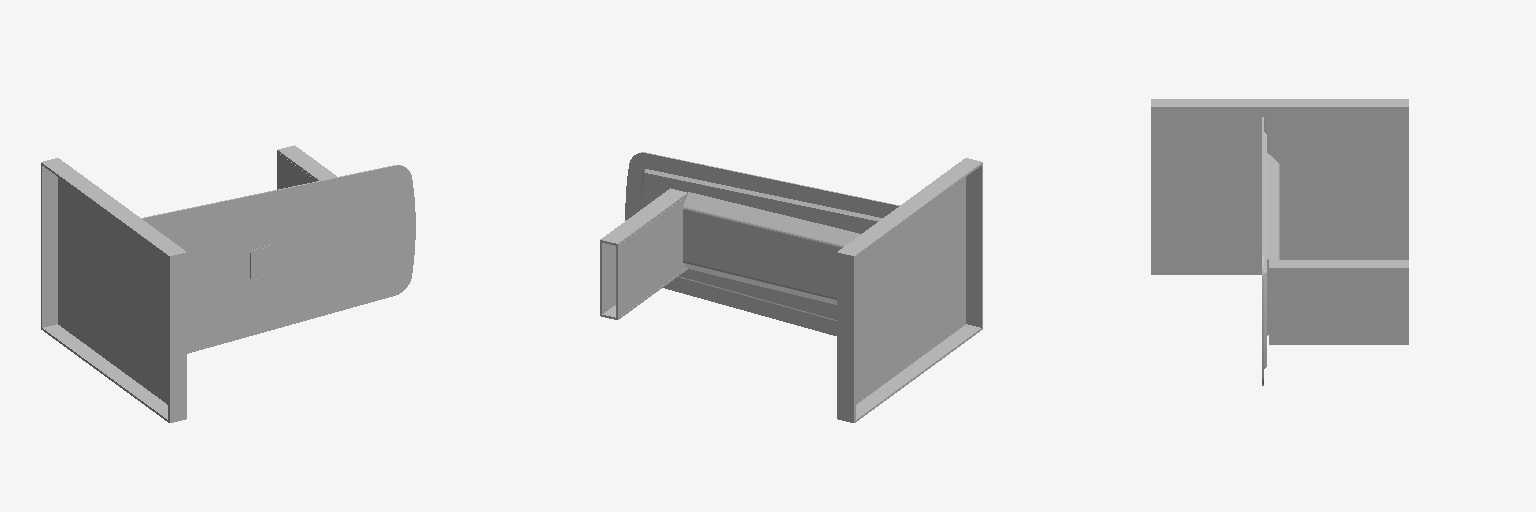
The model's file is 01-layers.obj.
3 renders of one model, left to right at view 1: azimuth 30°, elevation 25°; view 2: azimuth 150°, elevation 25°; view 3: azimuth 270°, elevation 25°, orthographic.
Visible parts, largest first — view 1: _ncl1_4, _ncl1_2, default, _ncl1_1, _ncl1_8, _ncl1_11, _ncl1_9; view 2: _ncl1_2, _ncl1_4, _ncl1_3, _ncl1_11, _ncl1_8, _ncl1_1, default; view 3: _ncl1_2, _ncl1_8, _ncl1_7, _ncl1_3, _ncl1_4, _ncl1_5.
Part boxes in pixels (x1,y1,x2,y2): _ncl1_4: (141, 165, 415, 353); _ncl1_2: (41, 158, 186, 422); default: (168, 255, 184, 420); _ncl1_1: (41, 165, 57, 327); _ncl1_8: (277, 145, 336, 180); _ncl1_11: (277, 152, 315, 189); _ncl1_9: (250, 247, 269, 280); _ncl1_2: (837, 158, 982, 422); _ncl1_4: (625, 152, 899, 335); _ncl1_3: (683, 192, 860, 304); _ncl1_11: (616, 196, 686, 317); _ncl1_8: (600, 188, 687, 319); _ncl1_1: (839, 255, 855, 420); default: (966, 165, 982, 327); _ncl1_2: (1151, 99, 1408, 274); _ncl1_8: (1269, 260, 1408, 344); _ncl1_7: (1165, 133, 1237, 253); _ncl1_3: (1267, 153, 1279, 335); _ncl1_4: (1262, 117, 1266, 385); _ncl1_5: (1163, 131, 1239, 254).
Size of the model in its own units: 102 by 54 by 75.53.